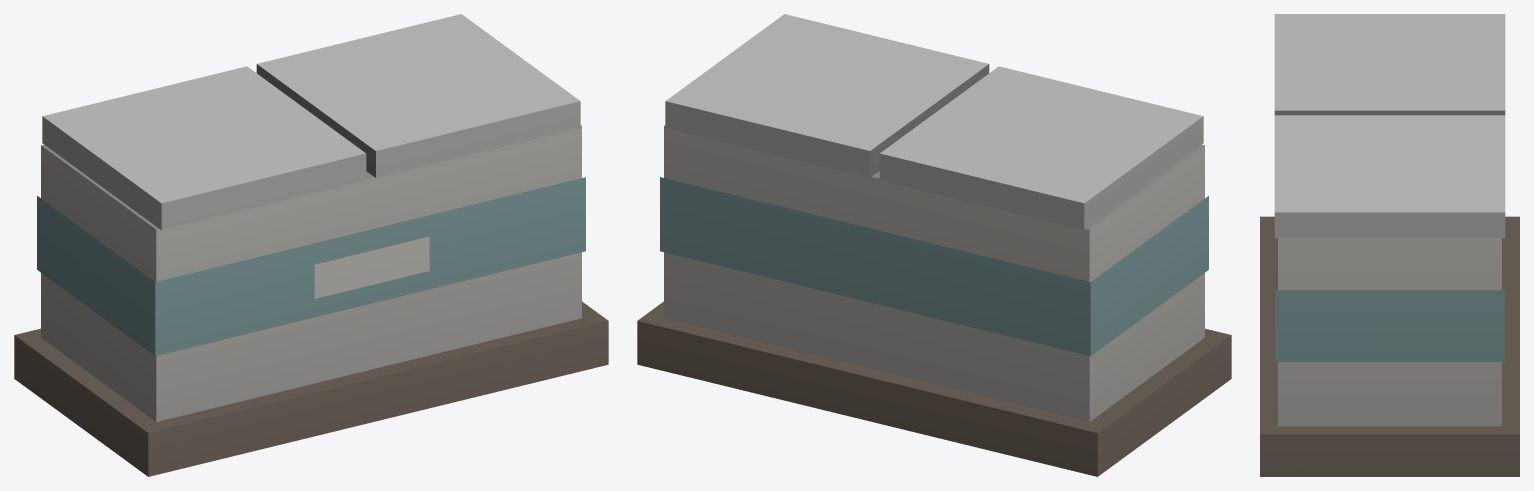
The model's file is ice.lod2.glb.
3 renders of one model, left to right at view 1: azimuth 30°, elevation 25°; view 2: azimuth 150°, elevation 25°; view 3: azimuth 270°, elevation 25°, orthographic. The views are drawn at different scales.
Size of the model in its own units: 1.43 by 0.78 by 0.72.
